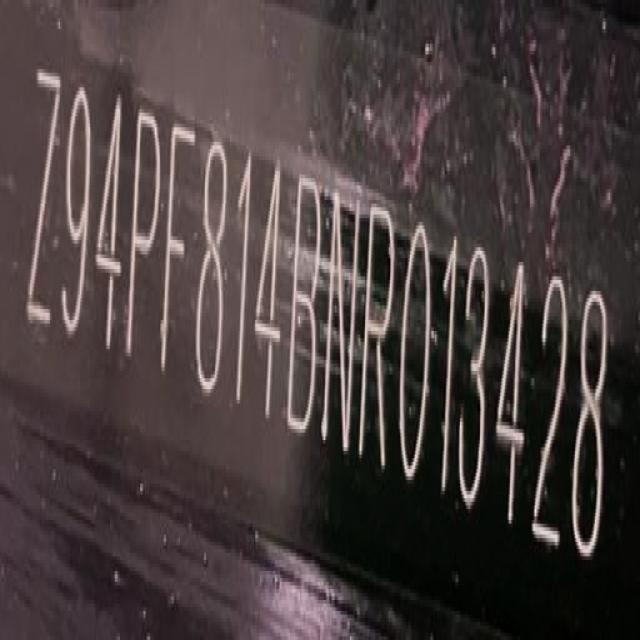0: (399, 224, 434, 498)
1: (233, 126, 253, 406), (441, 234, 458, 509)
2: (533, 268, 569, 559)
3: (461, 238, 491, 509)
4: (94, 75, 126, 357), (498, 252, 526, 530), (256, 154, 284, 422)
8: (574, 275, 610, 556), (196, 120, 231, 405)
9: (62, 67, 92, 345)
B: (286, 172, 322, 452)
F: (162, 105, 192, 385)
N: (322, 182, 362, 455)
P: (126, 86, 162, 373)
R: (360, 193, 396, 478)
Z: (26, 58, 62, 334)
